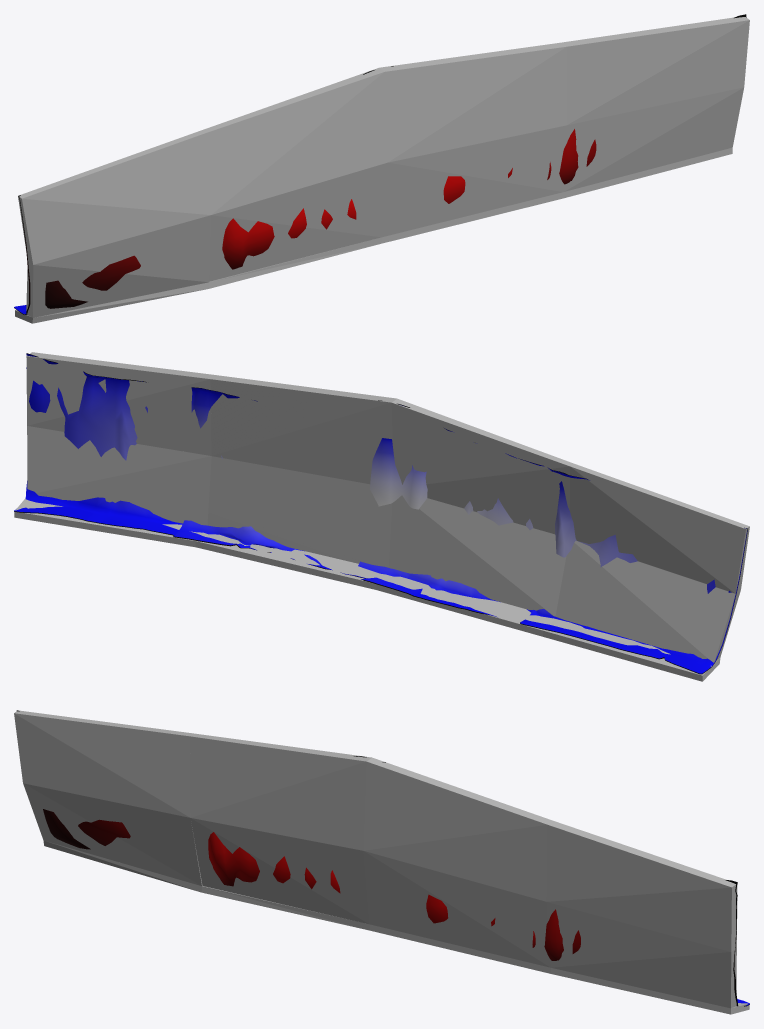
The model's file is Tent_05_Mesh.fbx.
The picture shows the model from 3 angles, top to bottom: view 1: azimuth 30°, elevation 25°; view 2: azimuth 150°, elevation 25°; view 3: azimuth 330°, elevation 25°; orthographic projection.
Visible parts, largest first — view 1: Tent_05_COL_02, Tent_05_COL_05, Tent_05_COL_00, Tent_05_COL_07, Tent_05_COL_04, Tent_05_COL_06, Tent_05_COL_03, Tent_05_COL_01, Tent_05_LOD0, Tent_05_COL_08, Tent_05_COL_10, Tent_05_COL_09 (+1 smaller); view 2: Tent_05_LOD0, Tent_05_COL_05, Tent_05_COL_04, Tent_05_COL_02, Tent_05_COL_03, Tent_05_COL_01, Tent_05_COL_00, Tent_05_COL_06, Tent_05_COL_07, Tent_05_COL_10, Tent_05_COL_09, Tent_05_COL_08 (+1 smaller); view 3: Tent_05_COL_05, Tent_05_COL_02, Tent_05_COL_07, Tent_05_COL_00, Tent_05_COL_04, Tent_05_COL_06, Tent_05_COL_03, Tent_05_COL_01, Tent_05_LOD0, Tent_05_COL_11, Tent_05_COL_10, Tent_05_COL_09 (+1 smaller).
Part boxes in pixels (box(x1,y1,x2,y2)): Tent_05_COL_02: box(197, 68, 387, 214); Tent_05_COL_05: box(379, 42, 566, 162); Tent_05_COL_00: box(18, 132, 210, 264); Tent_05_COL_07: box(562, 17, 749, 125); Tent_05_COL_04: box(382, 125, 566, 237); Tent_05_COL_06: box(563, 87, 743, 191); Tent_05_COL_03: box(209, 162, 387, 281); Tent_05_COL_01: box(26, 215, 210, 317); Tent_05_LOD0: box(14, 14, 746, 314); Tent_05_COL_08: box(15, 282, 209, 323); Tent_05_COL_10: box(381, 192, 563, 243); Tent_05_COL_09: box(209, 237, 381, 288); Tent_05_LOD0: box(14, 353, 747, 674); Tent_05_COL_05: box(210, 375, 396, 484); Tent_05_COL_04: box(207, 456, 392, 567); Tent_05_COL_02: box(391, 398, 573, 534); Tent_05_COL_03: box(389, 495, 566, 616); Tent_05_COL_01: box(555, 541, 740, 662); Tent_05_COL_00: box(569, 463, 749, 593); Tent_05_COL_06: box(27, 426, 211, 525); Tent_05_COL_07: box(26, 352, 215, 455); Tent_05_COL_10: box(195, 533, 385, 589); Tent_05_COL_09: box(376, 574, 554, 636); Tent_05_COL_08: box(543, 619, 720, 681); Tent_05_COL_05: box(363, 757, 552, 901); Tent_05_COL_02: box(190, 733, 371, 850); Tent_05_COL_07: box(546, 820, 737, 951); Tent_05_COL_00: box(14, 710, 193, 817); Tent_05_COL_04: box(363, 851, 550, 967); Tent_05_COL_06: box(546, 902, 736, 1008); Tent_05_COL_03: box(190, 818, 369, 924); Tent_05_COL_01: box(23, 783, 202, 885); Tent_05_LOD0: box(16, 710, 749, 1006); Tent_05_COL_11: box(551, 968, 749, 1014); Tent_05_COL_10: box(369, 924, 550, 973); Tent_05_COL_09: box(201, 886, 369, 930).
Size of what is drawn, in the model's own units: 1197 by 292 by 96.59.
